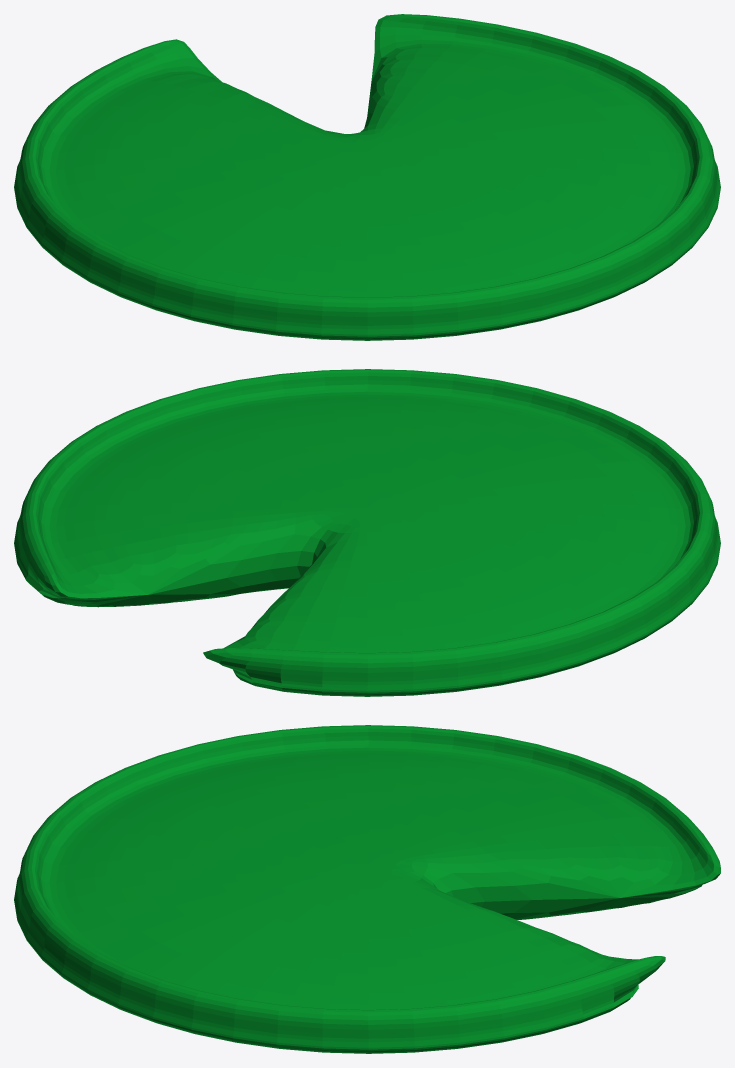
Rendered from lilypad temp.fbx.
3 renders of one model, top to bottom at view 1: azimuth 30°, elevation 25°; view 2: azimuth 150°, elevation 25°; view 3: azimuth 270°, elevation 25°, orthographic.
Visible parts, largest first — view 1: Sphere; view 2: Sphere; view 3: Sphere.
Part boxes in pixels (bbox=[...]): Sphere: bbox=[14, 14, 720, 340]; Sphere: bbox=[14, 369, 720, 696]; Sphere: bbox=[14, 725, 720, 1053].
Size of the model in its own units: 190 by 21.04 by 189.
